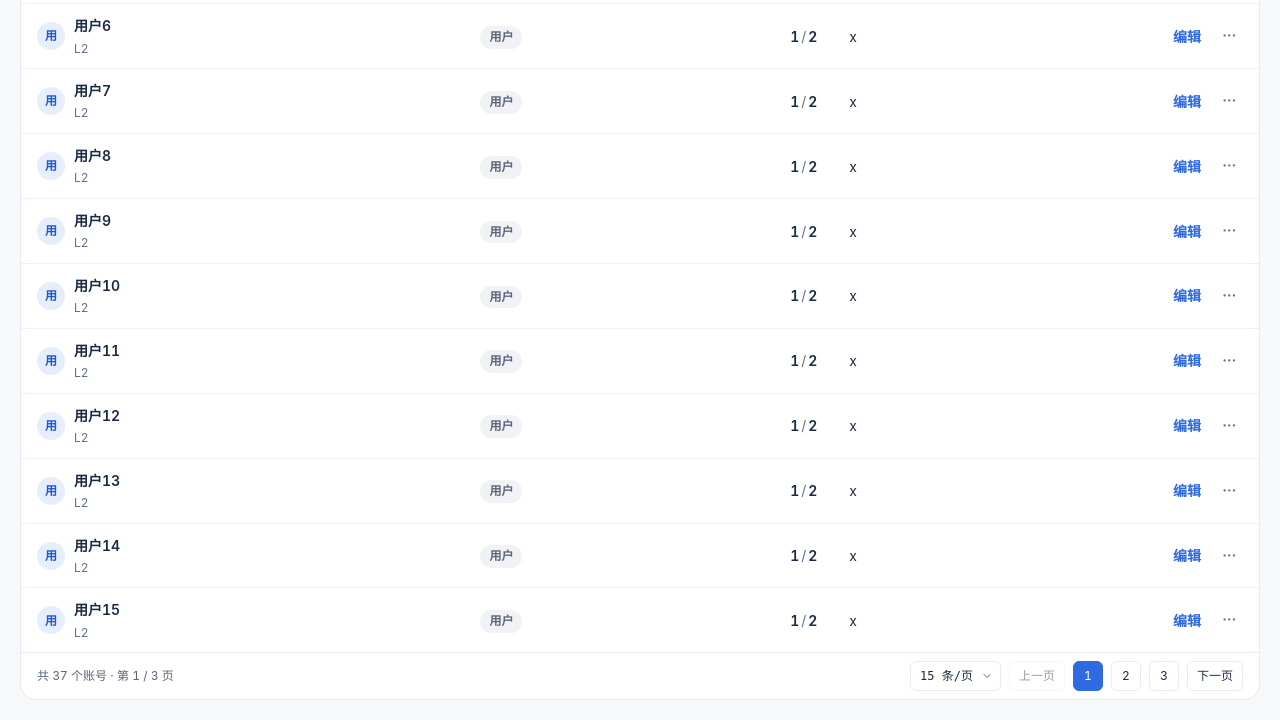
Test: Users 客户端分页（mk-pagination） › 末页：第 3 页只含剩余 7 行（37 = 15×2 + 7）
(page scrolled)
Click the button "下一页".
click(1215, 676)  # box [1187,661,1243,691]
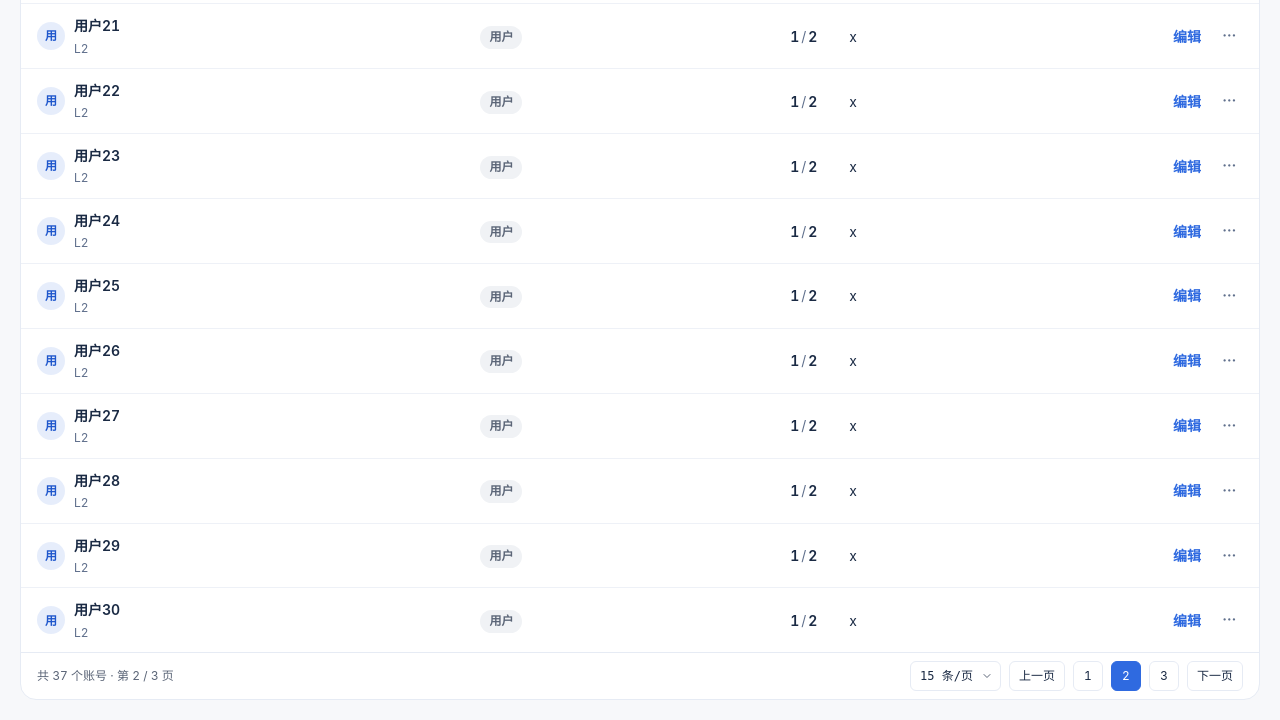
Click the button "下一页".
click(1215, 676)  # box [1187,661,1243,691]
(page scrolled)
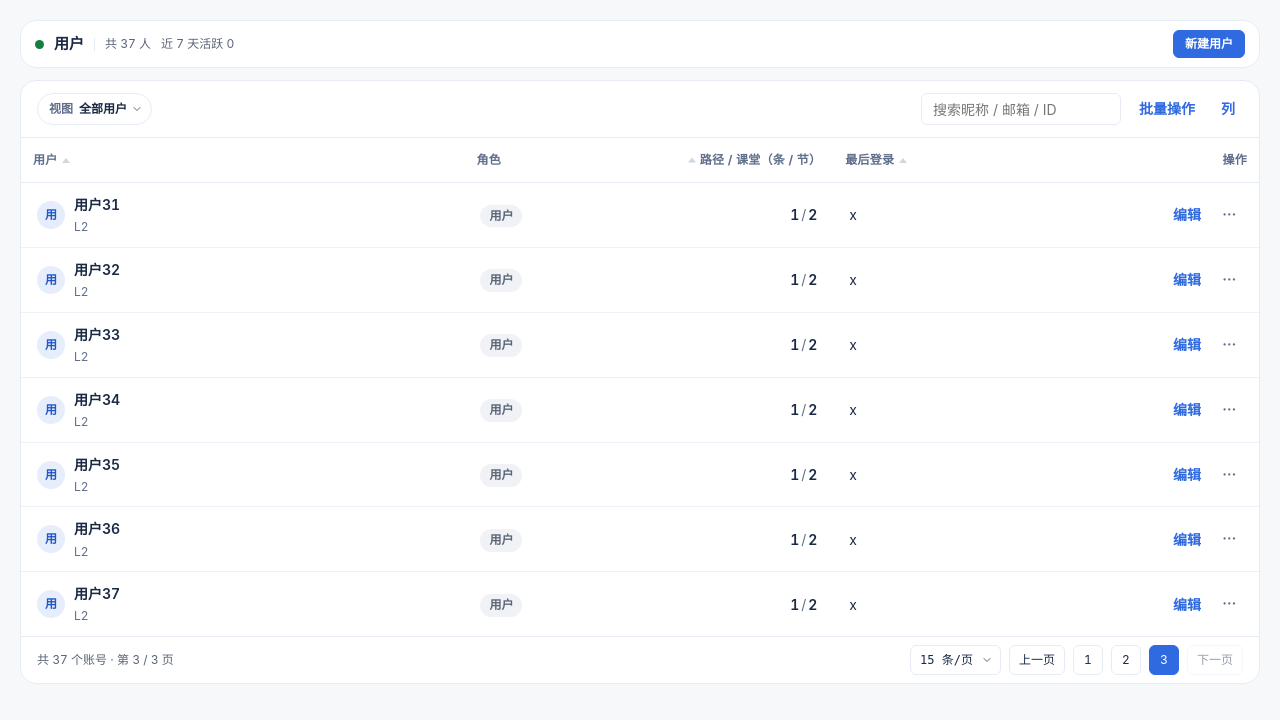
Expected: the text "第 3 / 3 页" is shown, [37,652,174,667]
Expected: the text "用户31" is shown, [74,196,120,213]
